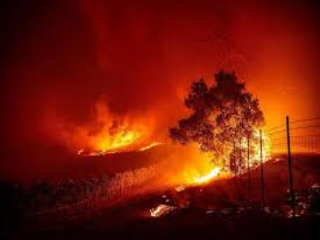fire: (79, 116, 153, 161), (176, 160, 230, 184)
